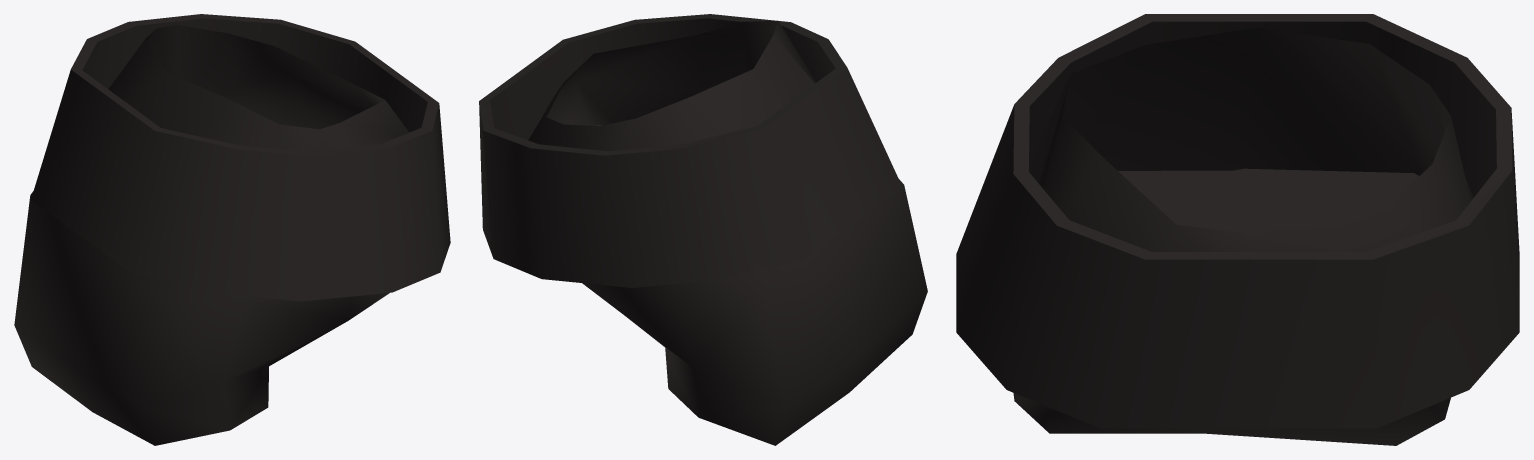
File: glove R.obj
The picture shows the model from 3 angles, left to right: view 1: azimuth 30°, elevation 25°; view 2: azimuth 150°, elevation 25°; view 3: azimuth 270°, elevation 25°; orthographic projection. The views are drawn at different scales.
Visible parts, largest first — view 1: glove_R; view 2: glove_R; view 3: glove_R.
Boxes of the visible parts, <box> form: glove_R: <box>14,14,450,445</box>; glove_R: <box>479,14,927,445</box>; glove_R: <box>956,14,1519,445</box>.
Size of the model in its own units: 0.8213 by 0.7521 by 0.8904.
